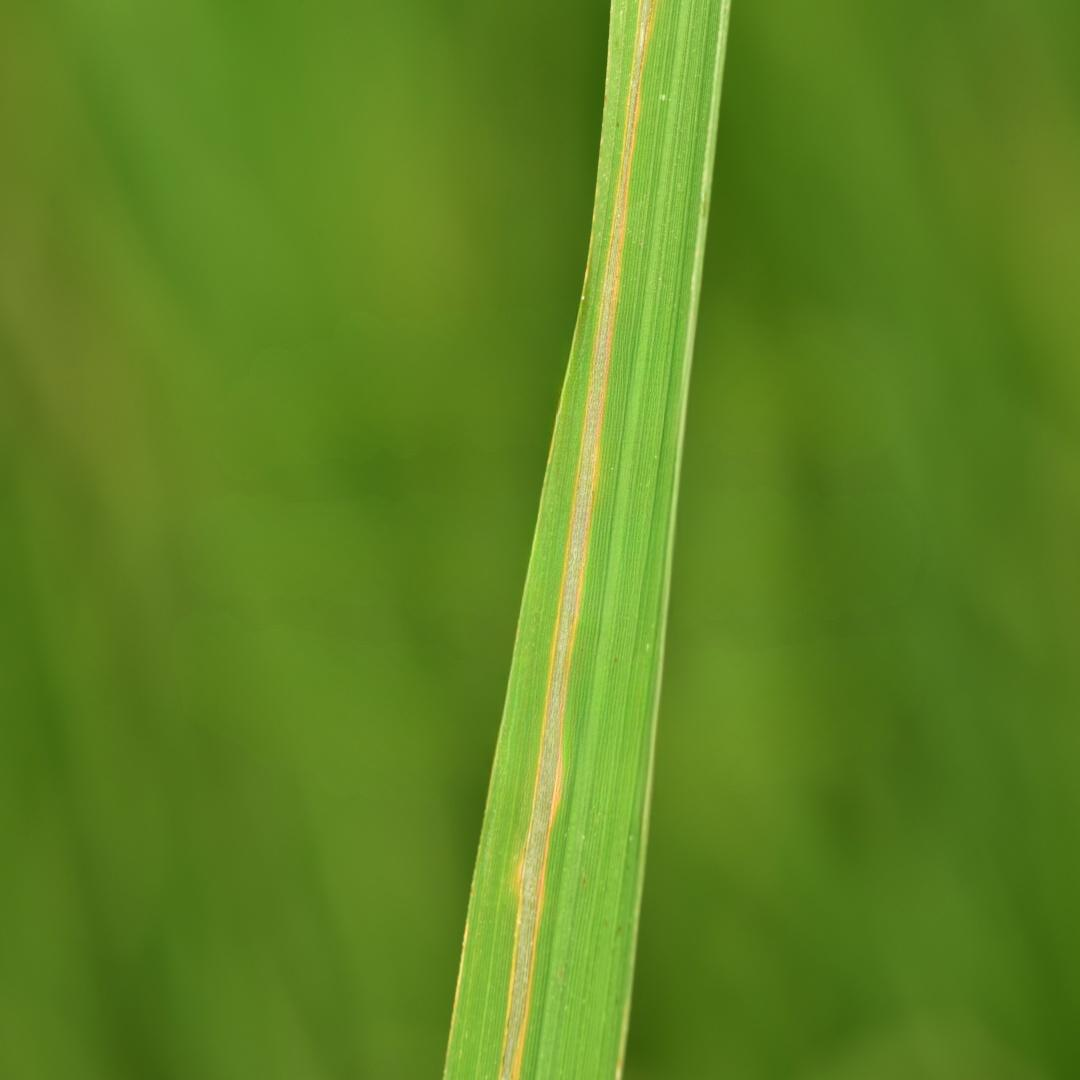BLB: (501, 0, 653, 1079)
